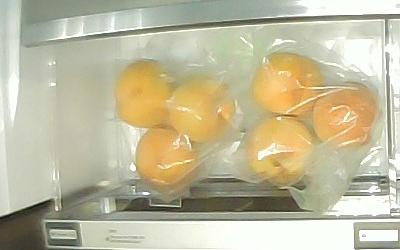peach_vinyl: (252, 51, 322, 117), (170, 76, 235, 144), (249, 117, 313, 185), (313, 82, 380, 146), (136, 127, 198, 192), (114, 59, 171, 129)
